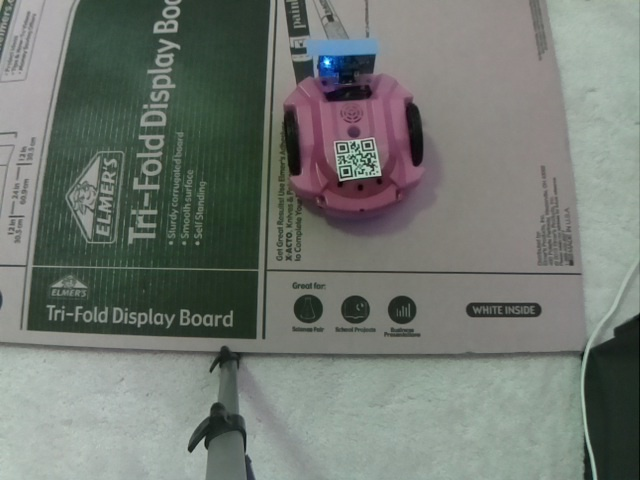board: (305, 35, 389, 83)
chassis: (277, 34, 428, 223)
